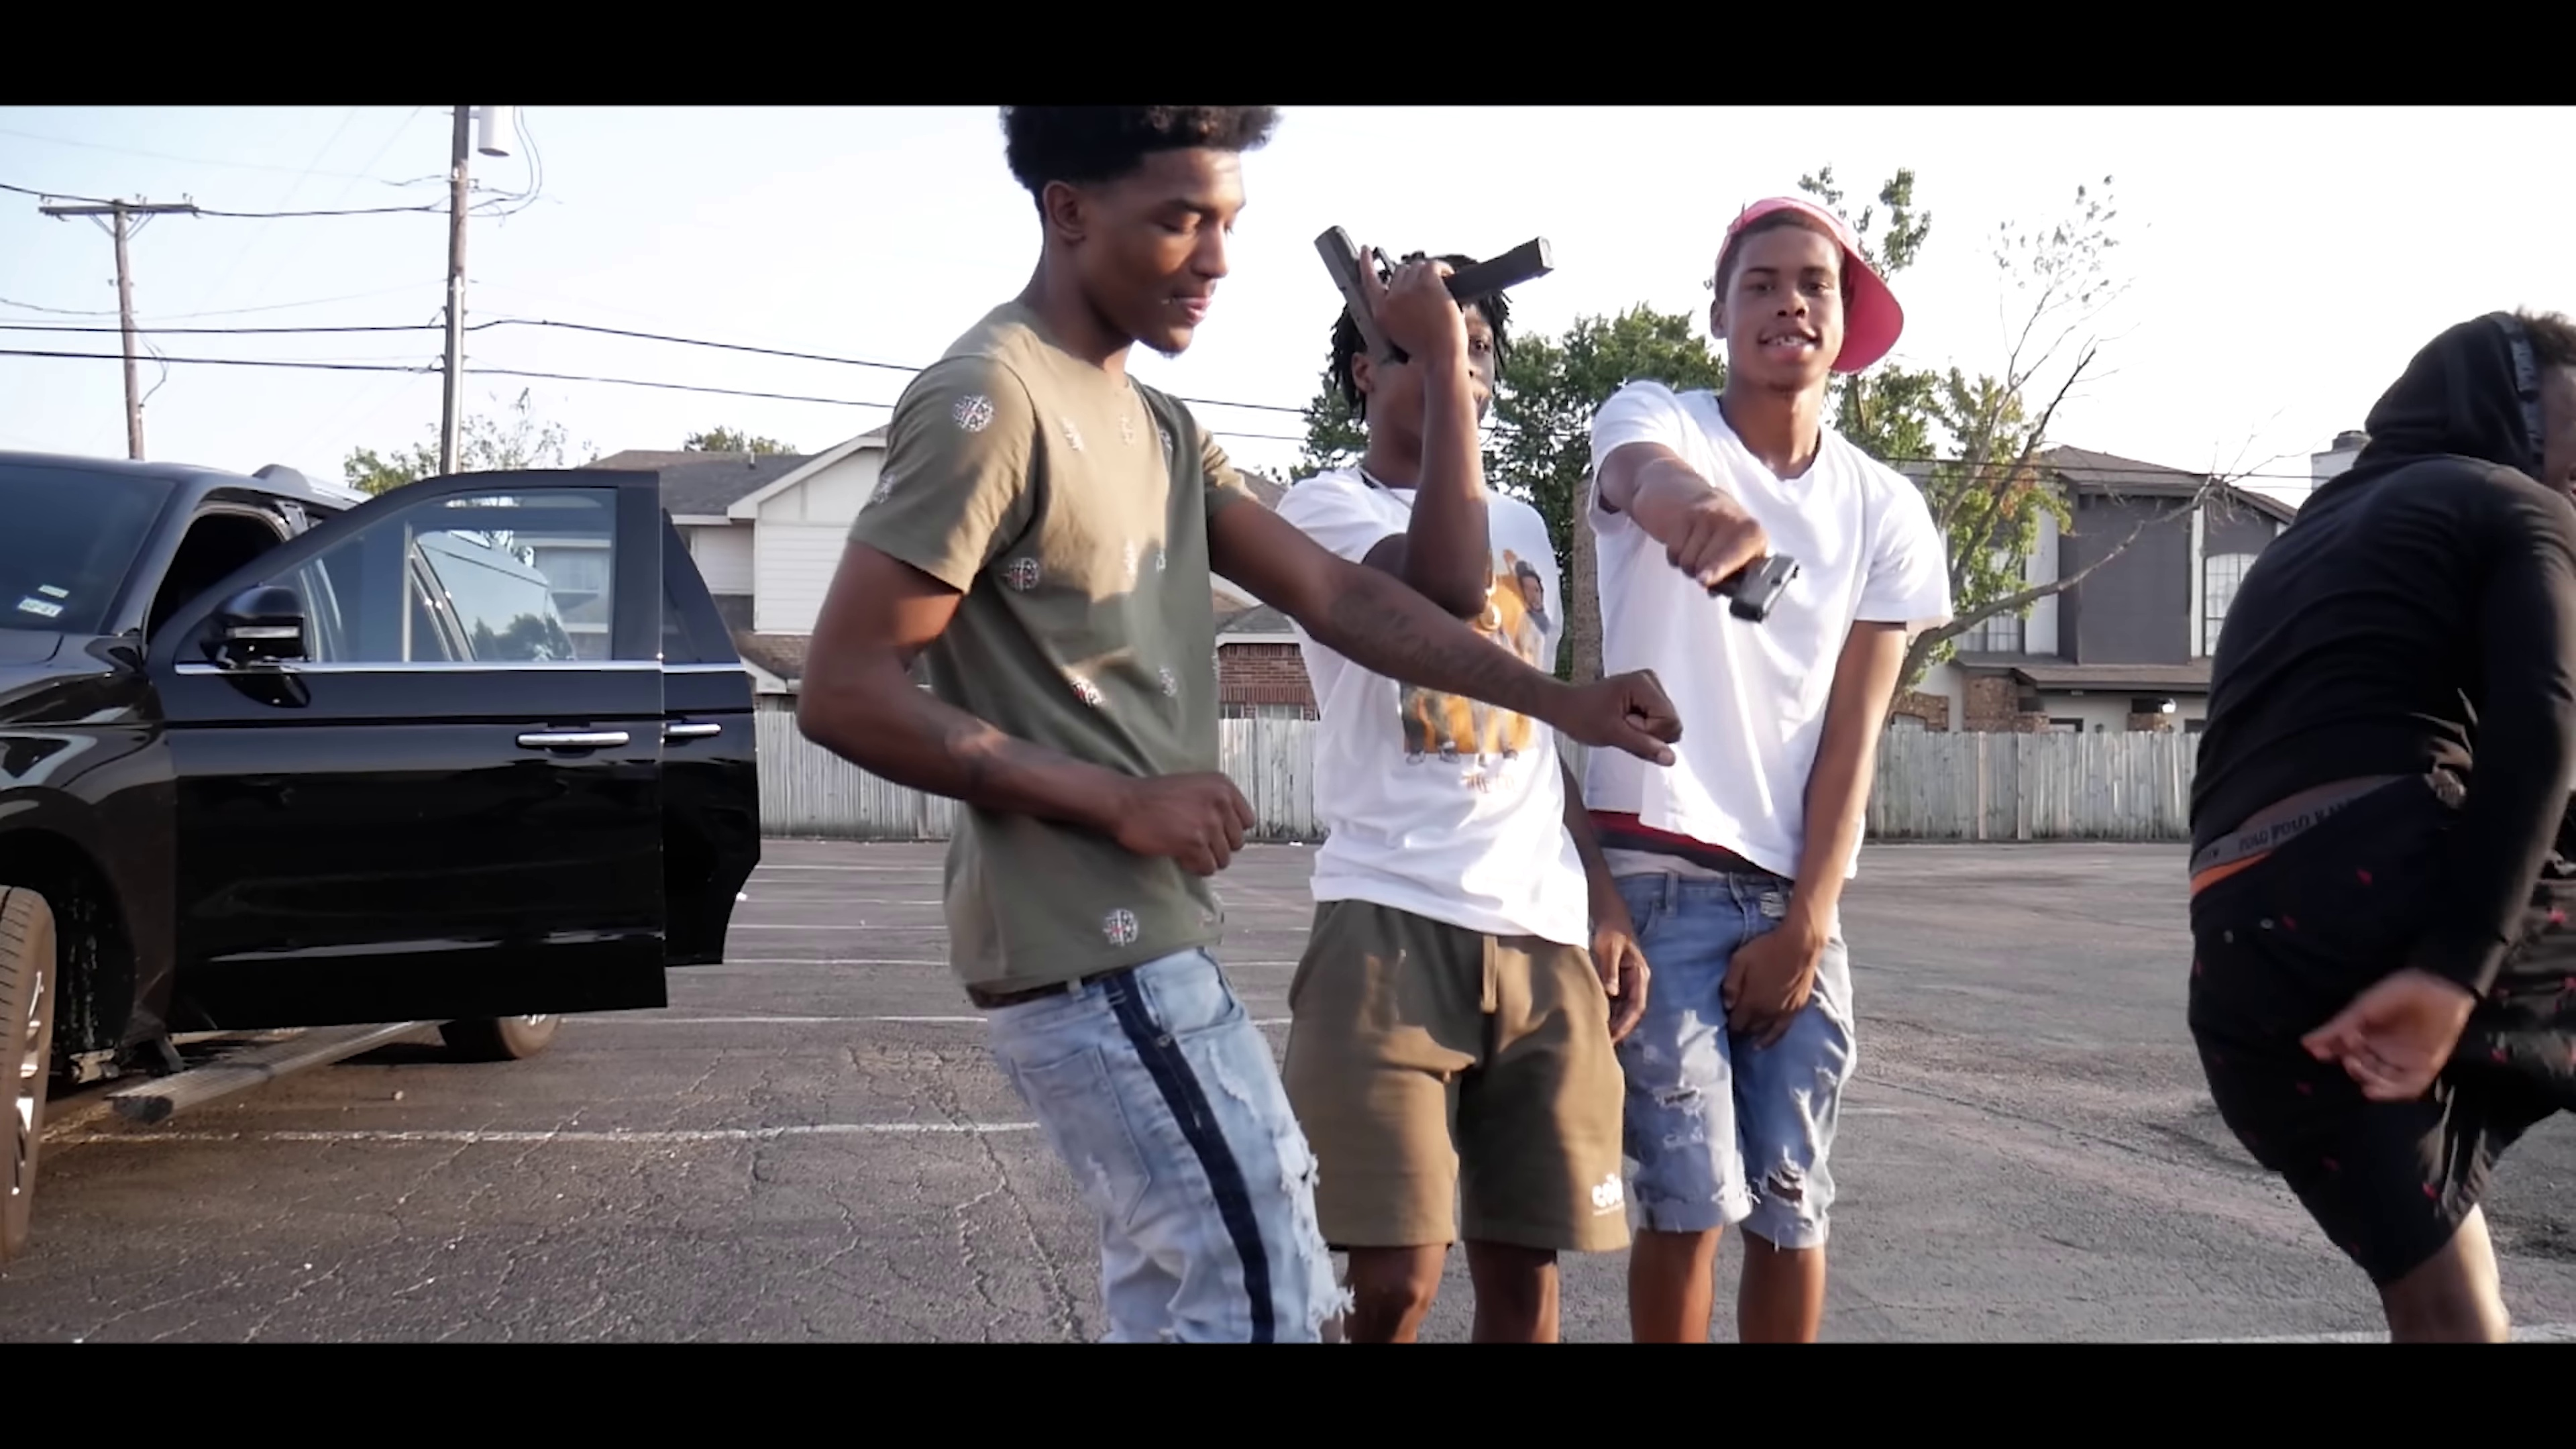gun: (1307, 219, 1557, 395), (1677, 538, 1803, 633)
p_w_gun: (1562, 196, 1957, 1348), (1265, 209, 1652, 1336)
p_wo_gun_not_carrying_normal_pose: (786, 96, 1695, 1359), (2164, 303, 2576, 1346)
